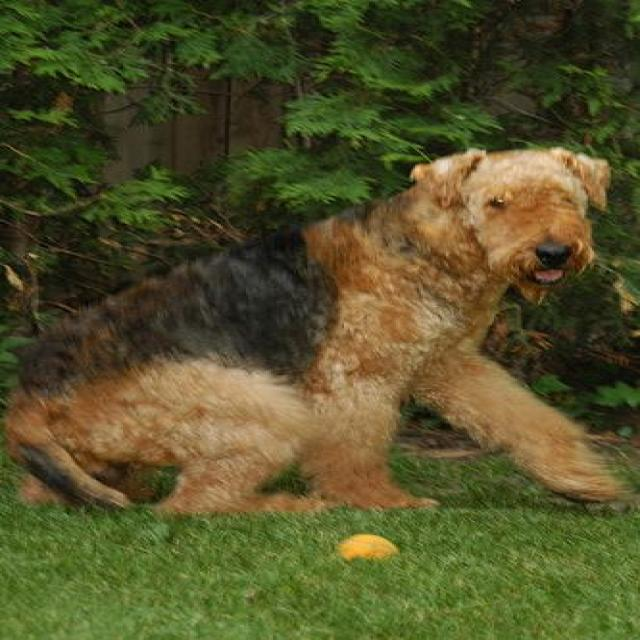airedale: (0, 142, 627, 521)
